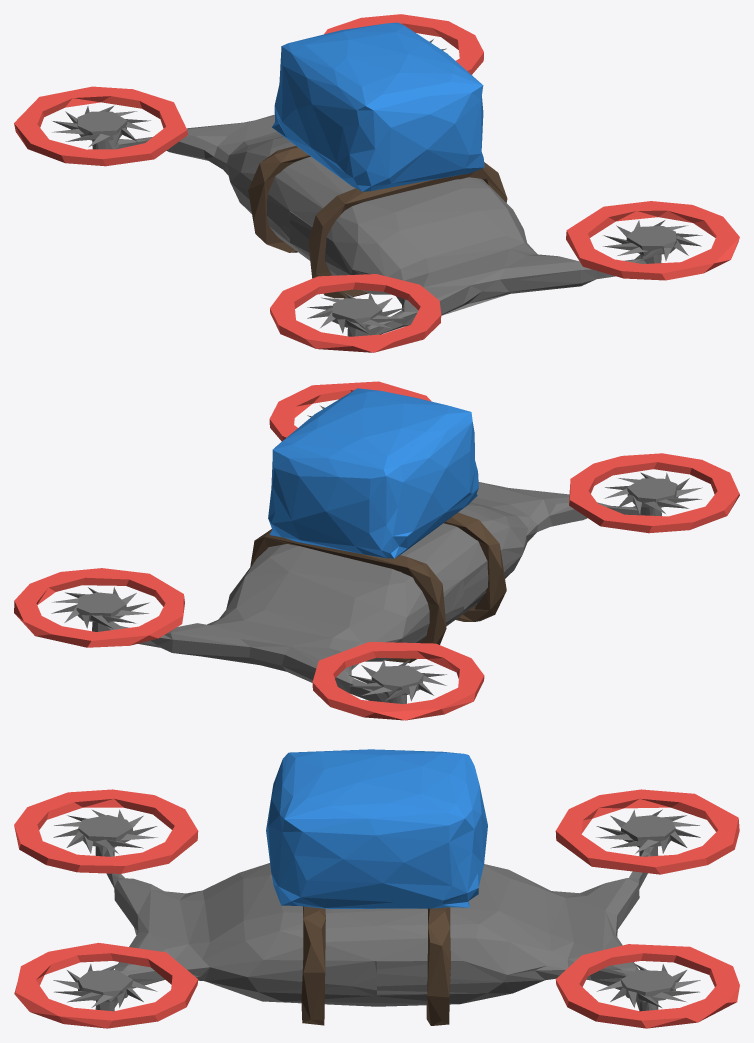
Rendered from bezos_machinedrone (1).fbx.
The picture shows the model from 3 angles, top to bottom: view 1: azimuth 30°, elevation 25°; view 2: azimuth 150°, elevation 25°; view 3: azimuth 270°, elevation 25°; orthographic projection. The views are drawn at different scales.
Visible parts, largest first — view 1: Circle; view 2: Circle; view 3: Circle.
Part boxes in pixels (left/top/right/bottom): Circle: left=14, top=14, right=739, bottom=352; Circle: left=14, top=381, right=739, bottom=720; Circle: left=14, top=749, right=739, bottom=1028.
Bounding box in the file's own units: 139 × 62.21 × 184.
